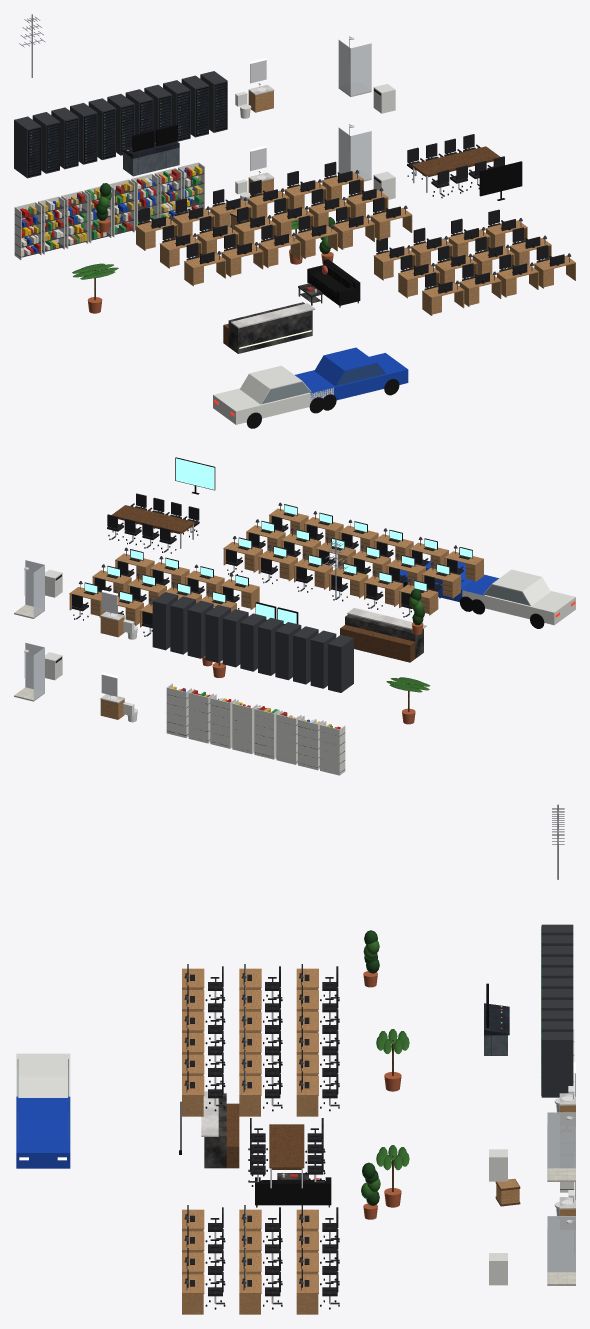
The model's file is i_police_station.gltf.
3 renders of one model, top to bottom at view 1: azimuth 30°, elevation 25°; view 2: azimuth 150°, elevation 25°; view 3: azimuth 270°, elevation 25°, orthographic. The views are drawn at different scales.
Parts seen in each view (by area): view 1: I_police_station; view 2: I_police_station; view 3: I_police_station.
Boxes of the visible parts, <box> form: I_police_station: <box>14,14,575,428</box>; I_police_station: <box>14,457,575,775</box>; I_police_station: <box>16,804,575,1314</box>.
Bounding box in the file's own units: 17.76 × 10 × 17.68.
40 materials, 10 textured.
